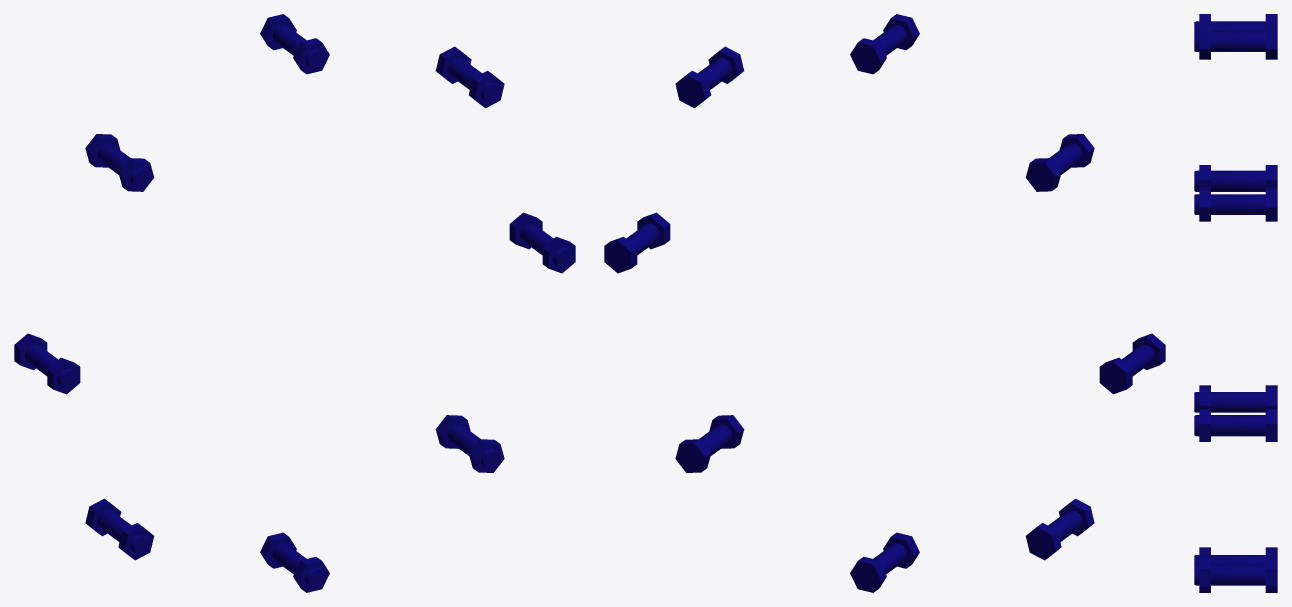
File: sBoltx8_02.FBX
3 renders of one model, left to right at view 1: azimuth 30°, elevation 25°; view 2: azimuth 150°, elevation 25°; view 3: azimuth 270°, elevation 25°, orthographic.
Parts seen in each view (by area): view 1: Bolt_02; view 2: Bolt_02; view 3: Bolt_02.
Part boxes in pixels (x1,y1,x2,y2): Bolt_02: [14, 14, 575, 592]; Bolt_02: [604, 14, 1165, 592]; Bolt_02: [1194, 14, 1277, 592].
Size of the model in its own units: 18.45 by 18.45 by 2.53.
